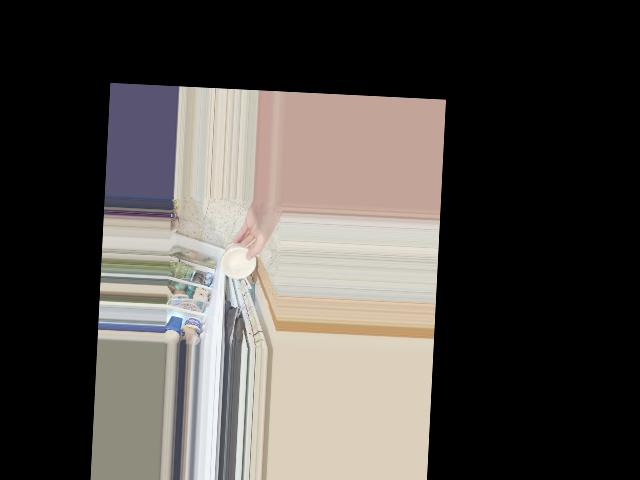cotage: (221, 240, 253, 280)
